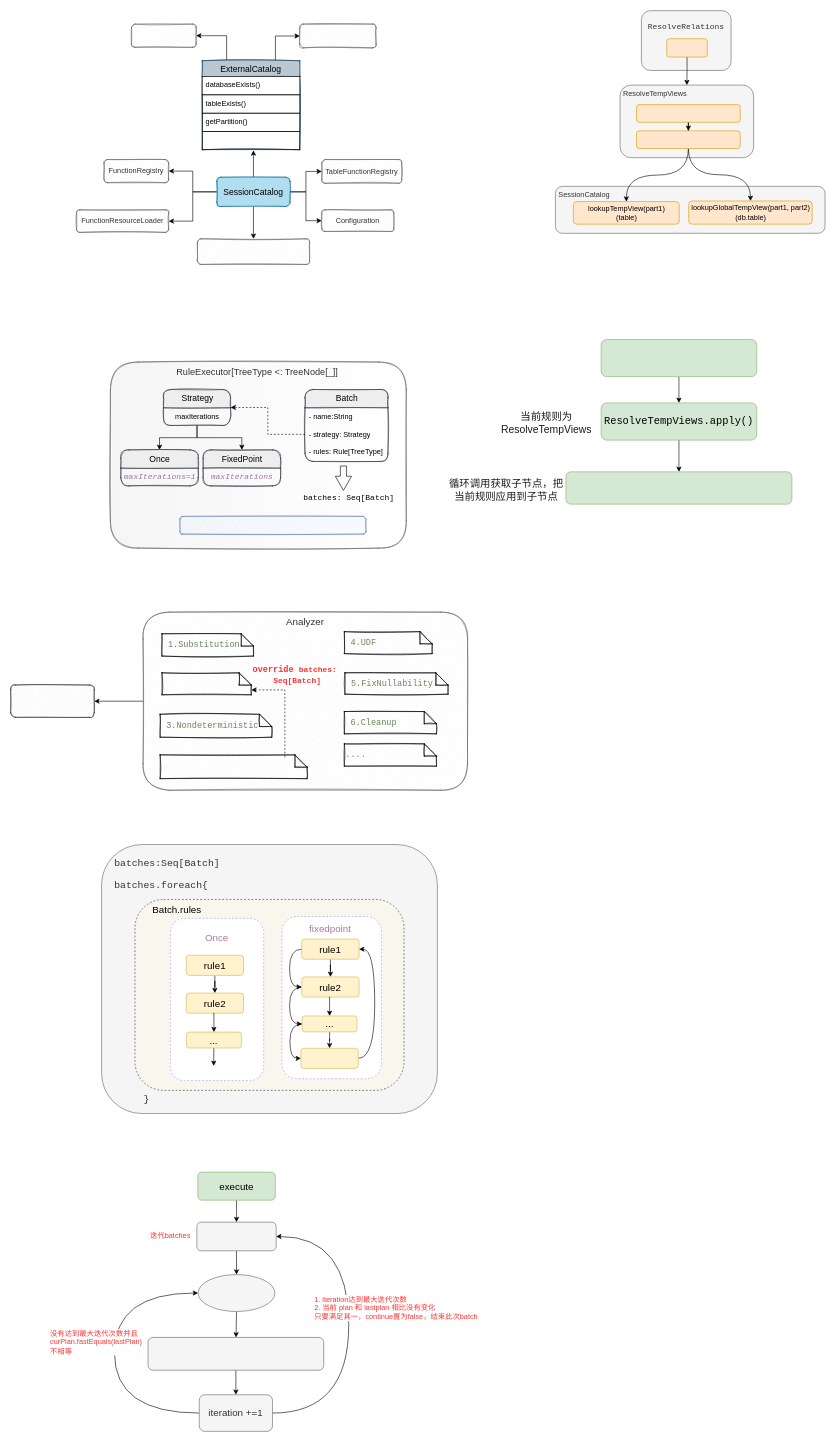
The diagram is 836 pixels wide and 1442 high, and some of its shapes have lost their labels. The shapes that lost their labels are listed below. From the top down, each one's centre as x and y in pixels, then its label:
At (x=163, y=35): "InMemoryCatalog".
At (x=337, y=35): "HiveExternalCatalog".
At (x=686, y=47): "apply()".
At (x=688, y=113): "lookupAndResolveTempView".
At (x=251, y=140): "createFunction()".
At (x=688, y=139): "lookupTempView".
At (x=253, y=251): "GlobalTempViewManager".
At (x=679, y=358): "ResolveRelations.apply()".
At (x=678, y=487): "plan.resolveOperatorsUpWithPruning()".
At (x=272, y=525): "def execute (plan: TreeType ): TreeType".
At (x=52, y=700): "RuleExecutor".
At (x=206, y=683): "2.Resolution".
At (x=233, y=766): "extendedResolutionRules".
At (x=329, y=1058): "rulen".
At (x=236, y=1236): "batches.foreach".
At (x=236, y=1293): "while(continue)".
At (x=235, y=1353): "curPlan = batch.rules.foldLeft(curPlan)".
